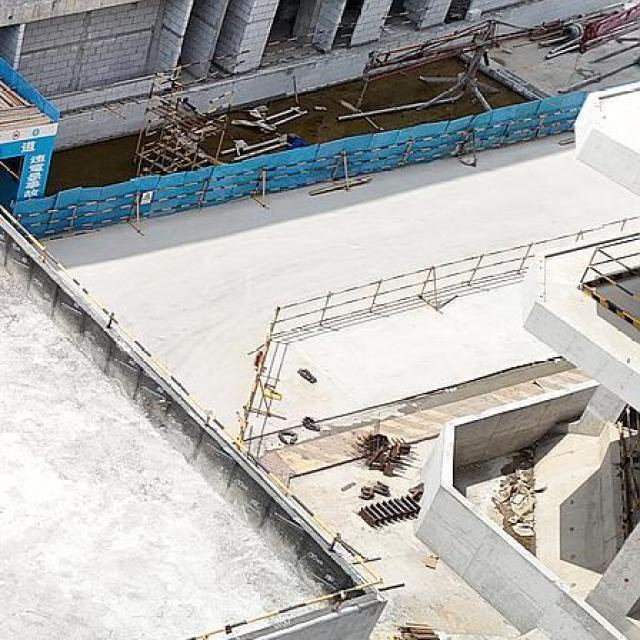edge_guardrail: (0, 204, 386, 640), (580, 238, 640, 303), (614, 404, 640, 544), (173, 49, 250, 88), (260, 28, 334, 68), (382, 6, 428, 28), (336, 22, 356, 39)
